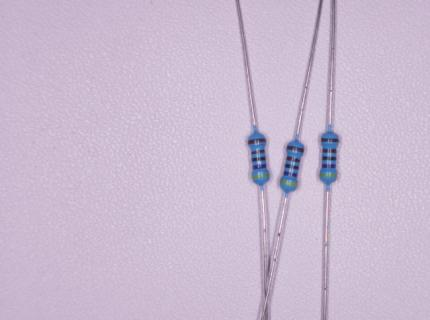Black band: (286, 163, 299, 170), (323, 156, 337, 161), (252, 157, 266, 162)
Brown band: (286, 145, 305, 153), (248, 138, 266, 145), (287, 155, 300, 163), (321, 138, 339, 143), (251, 149, 265, 155), (323, 149, 337, 153)
Violet band: (283, 171, 297, 177), (253, 164, 266, 170), (322, 163, 336, 168)
Yellow band: (280, 179, 298, 187), (252, 174, 270, 179), (319, 173, 338, 177)
